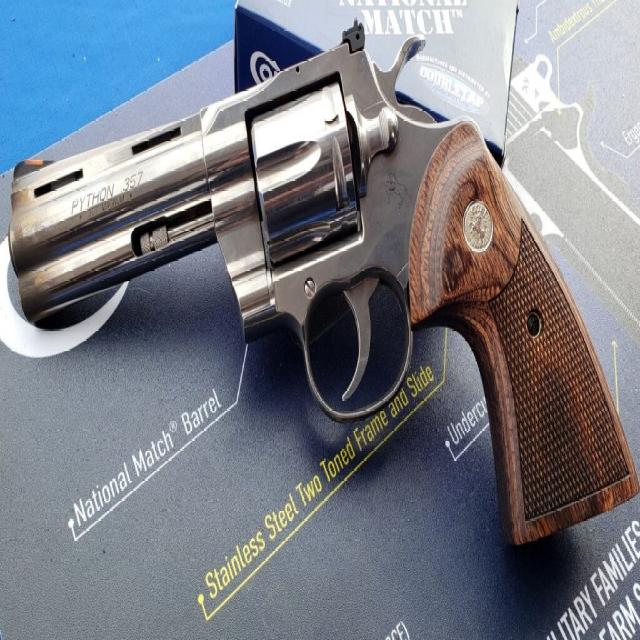handgun: (10, 13, 640, 548)
